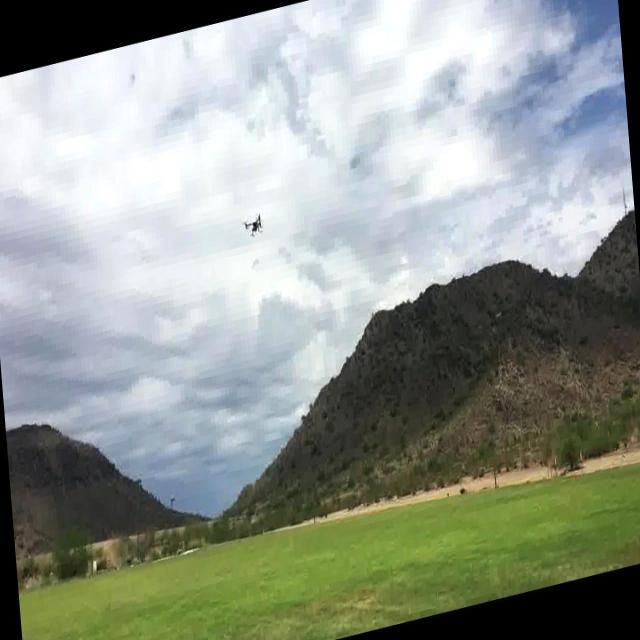drone: (240, 209, 266, 243)
